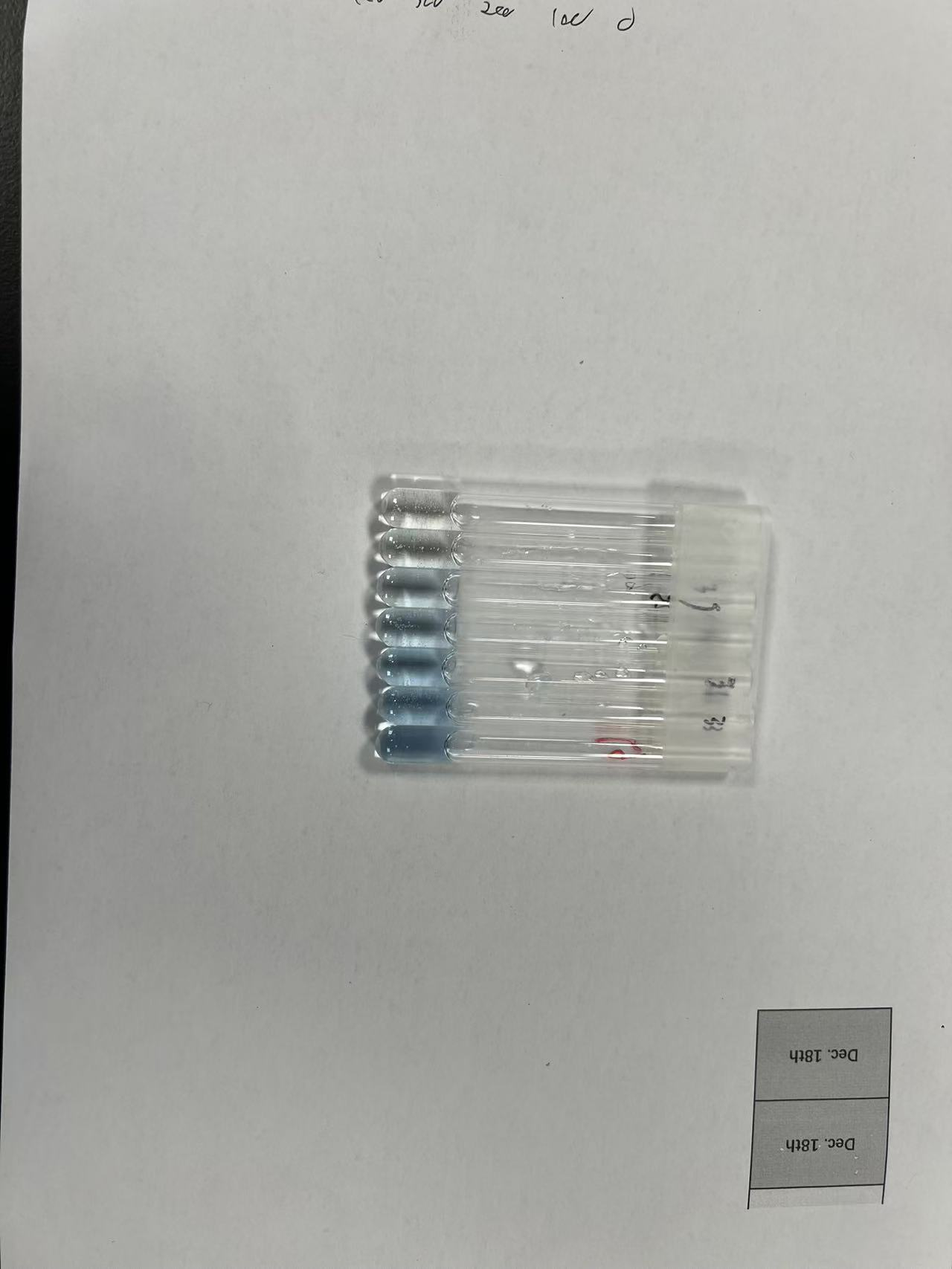drop: (376, 528, 472, 572), (373, 565, 461, 613), (373, 604, 459, 652), (377, 722, 462, 770), (375, 682, 462, 728), (379, 487, 465, 533), (370, 646, 458, 689)
